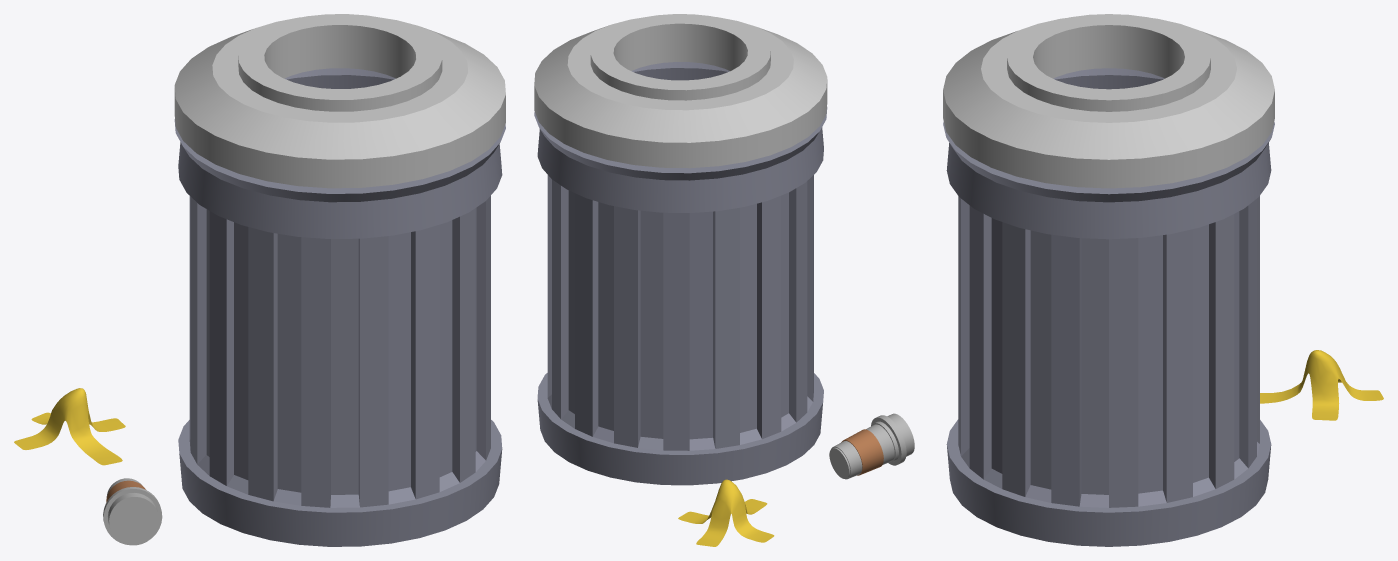
File: Engel 1.fbx
3 renders of one model, left to right at view 1: azimuth 30°, elevation 25°; view 2: azimuth 150°, elevation 25°; view 3: azimuth 270°, elevation 25°, orthographic. The views are drawn at different scales.
Visible parts, largest first — view 1: Cylinder.002, Cylinder.001, Cylinder.003; view 2: Cylinder.002, Cylinder.003, Cylinder.001; view 3: Cylinder.002, Cylinder.001.
Boxes of the visible parts, left/top/right/bottom form: Cylinder.002: left=174, top=14, right=505, bottom=546; Cylinder.001: left=14, top=388, right=125, bottom=465; Cylinder.003: left=103, top=478, right=162, bottom=545; Cylinder.002: left=534, top=14, right=827, bottom=485; Cylinder.003: left=829, top=413, right=914, bottom=479; Cylinder.001: left=678, top=479, right=774, bottom=546; Cylinder.002: left=943, top=14, right=1274, bottom=546; Cylinder.001: left=1260, top=350, right=1383, bottom=420.
Bounding box in the file's own units: 1.98 × 2.05 × 1.93.
